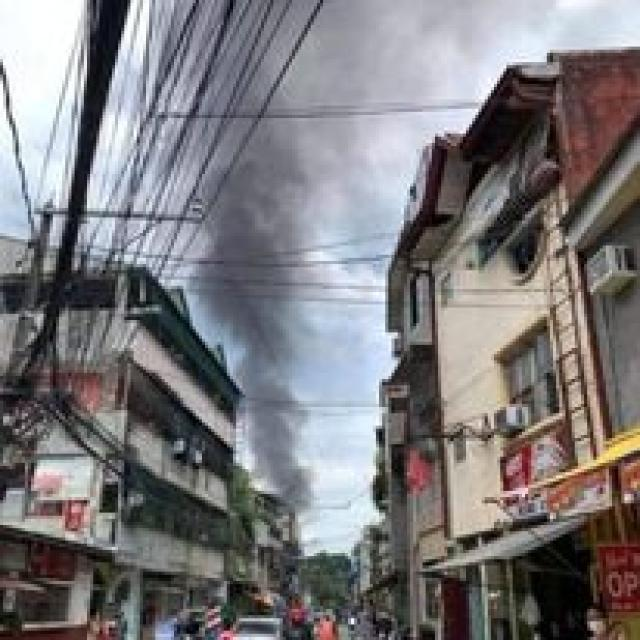Smoke: (134, 0, 380, 511)
